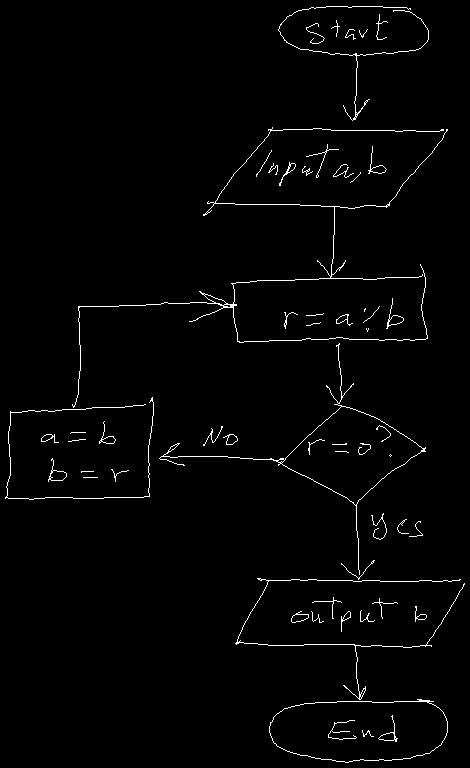arrow: (72, 291, 236, 407), (159, 443, 283, 465), (341, 506, 374, 579), (317, 207, 345, 277), (343, 53, 369, 120), (326, 343, 353, 403), (343, 644, 365, 699)
data: (203, 127, 447, 215), (235, 578, 464, 647)
decision: (270, 404, 425, 506)
process: (231, 264, 427, 342), (5, 397, 153, 499)
terminator: (269, 699, 447, 762), (278, 6, 428, 55)
text: (256, 144, 386, 185), (41, 421, 128, 481), (291, 597, 426, 631), (284, 298, 403, 331), (308, 425, 391, 456), (306, 14, 387, 43), (328, 715, 397, 741), (371, 513, 422, 539), (203, 426, 237, 445)
